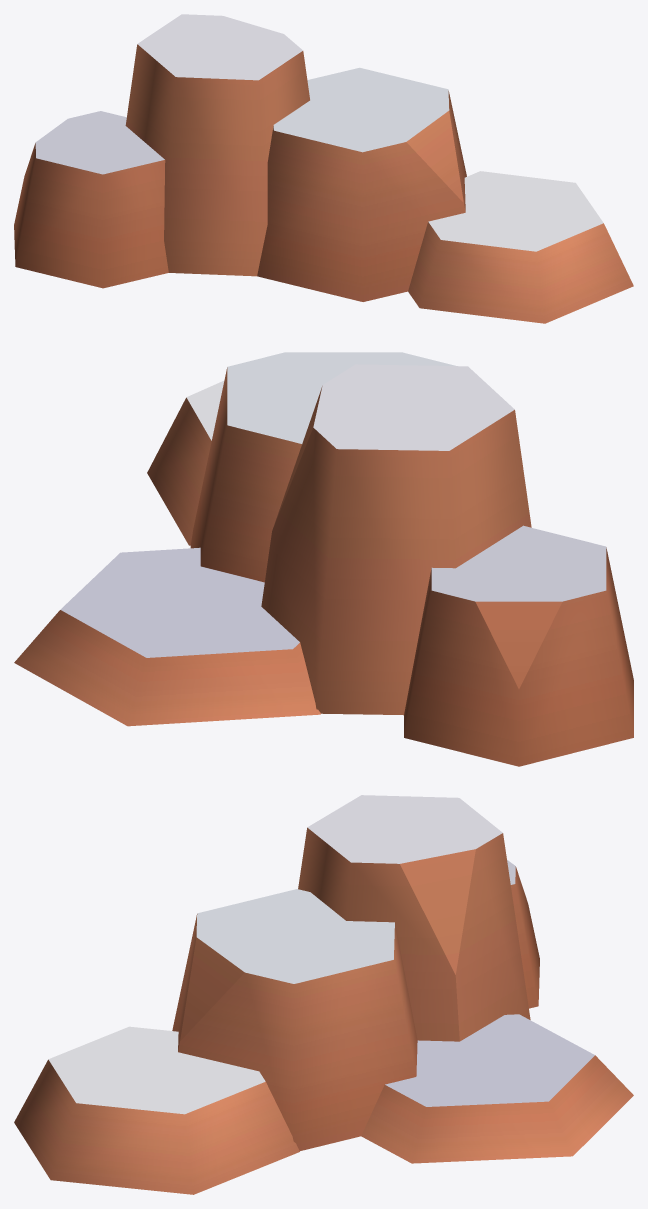
The model's file is kenney-tower-defense-snow-detail-dirt.glb.
The picture shows the model from 3 angles, top to bottom: view 1: azimuth 30°, elevation 25°; view 2: azimuth 150°, elevation 25°; view 3: azimuth 270°, elevation 25°; orthographic projection. The views are drawn at different scales.
Parts seen in each view (by area): view 1: snow-detail-dirt; view 2: snow-detail-dirt; view 3: snow-detail-dirt.
Part boxes in pixels (x1,y1,x2,y2): snow-detail-dirt: [14, 14, 633, 323]; snow-detail-dirt: [14, 352, 633, 766]; snow-detail-dirt: [14, 795, 633, 1194].
Size of the model in its own units: 0.7027 by 0.2653 by 0.712.
Materials: 1 (1 with a texture image).
